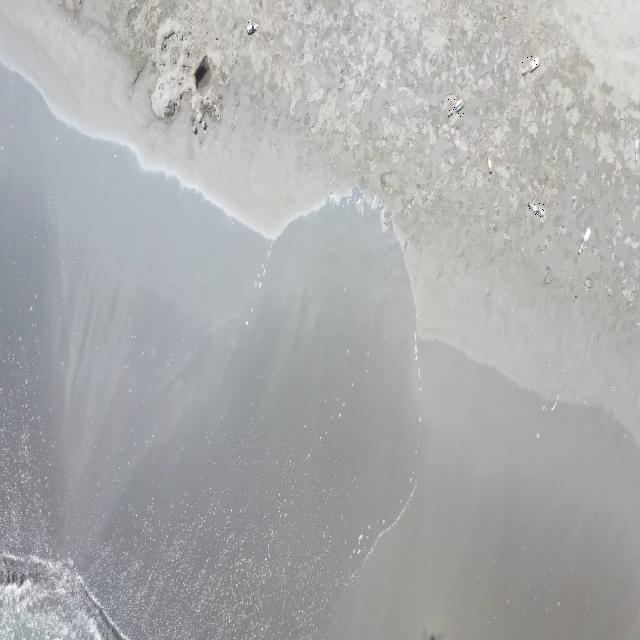glass: (578, 224, 593, 255), (522, 56, 541, 75), (448, 96, 465, 117), (527, 200, 546, 218), (246, 22, 259, 34), (486, 156, 494, 174)
